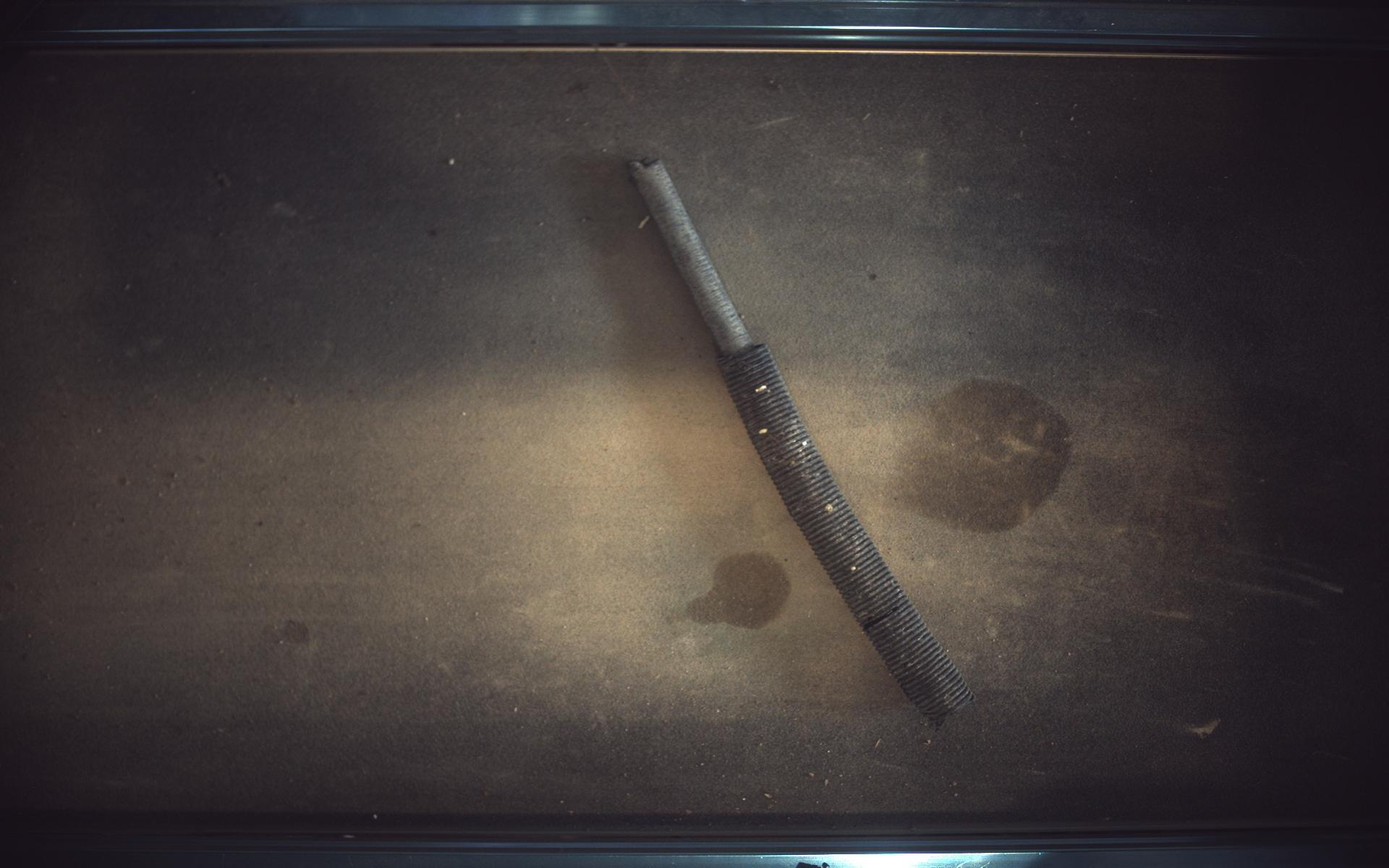pipes: (630, 158, 974, 728)
